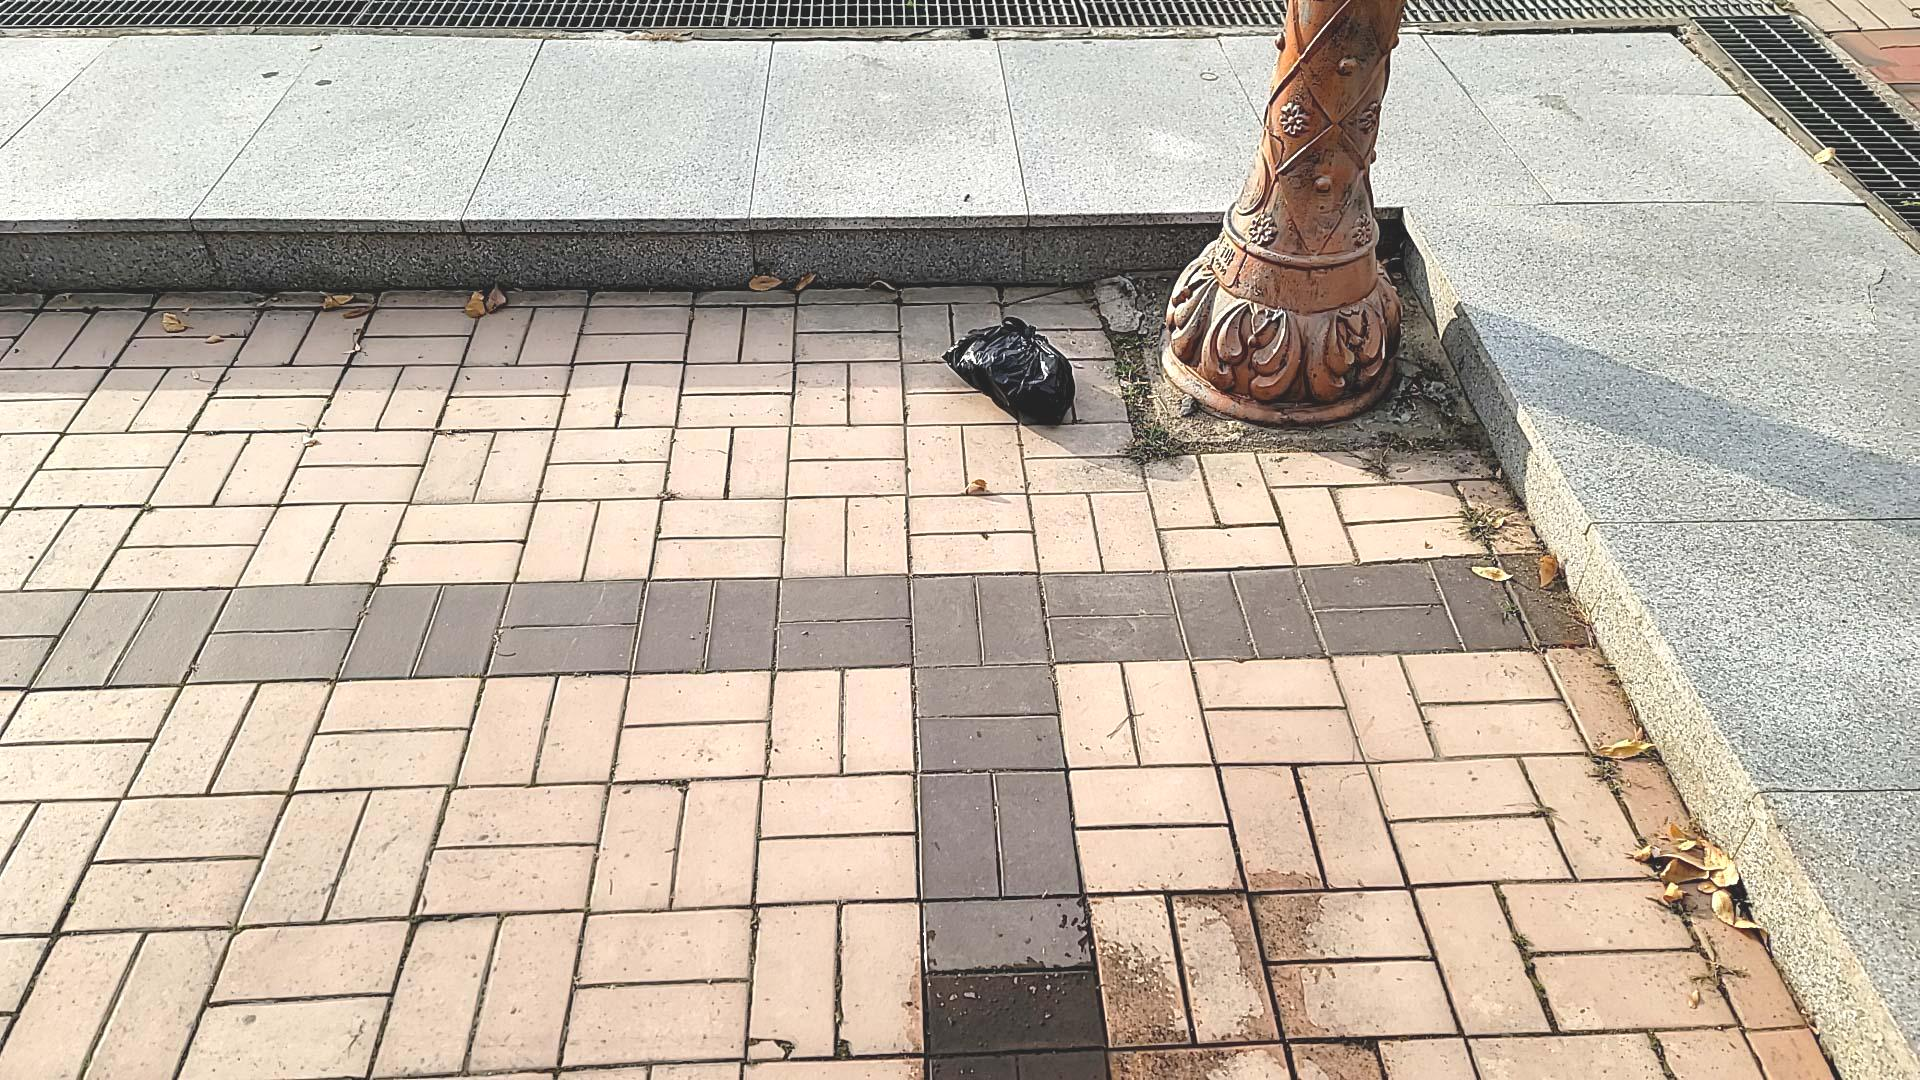black_bag: (934, 318, 1089, 442)
